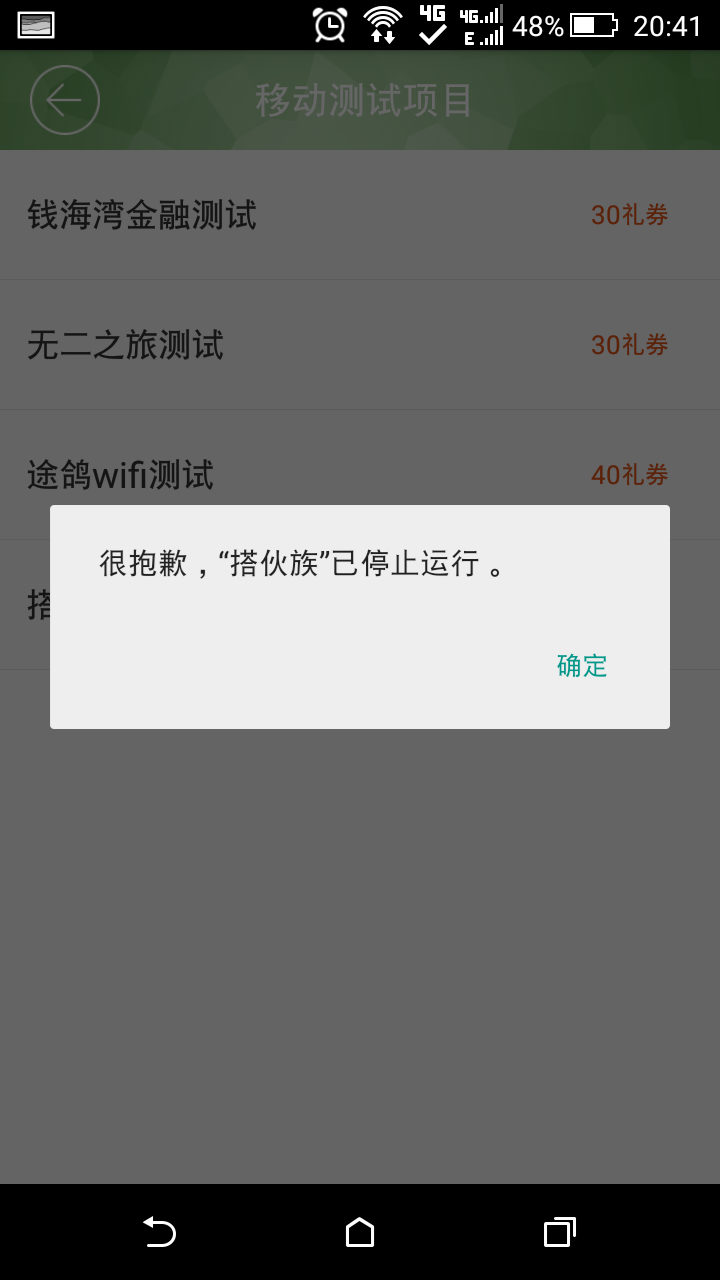alert: (36, 498, 697, 745)
